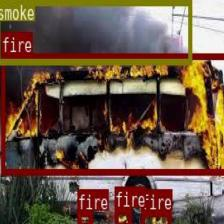fire: (0, 52, 224, 173), (140, 210, 170, 224), (114, 207, 131, 224), (77, 209, 91, 224)
smoke: (0, 0, 191, 64)
